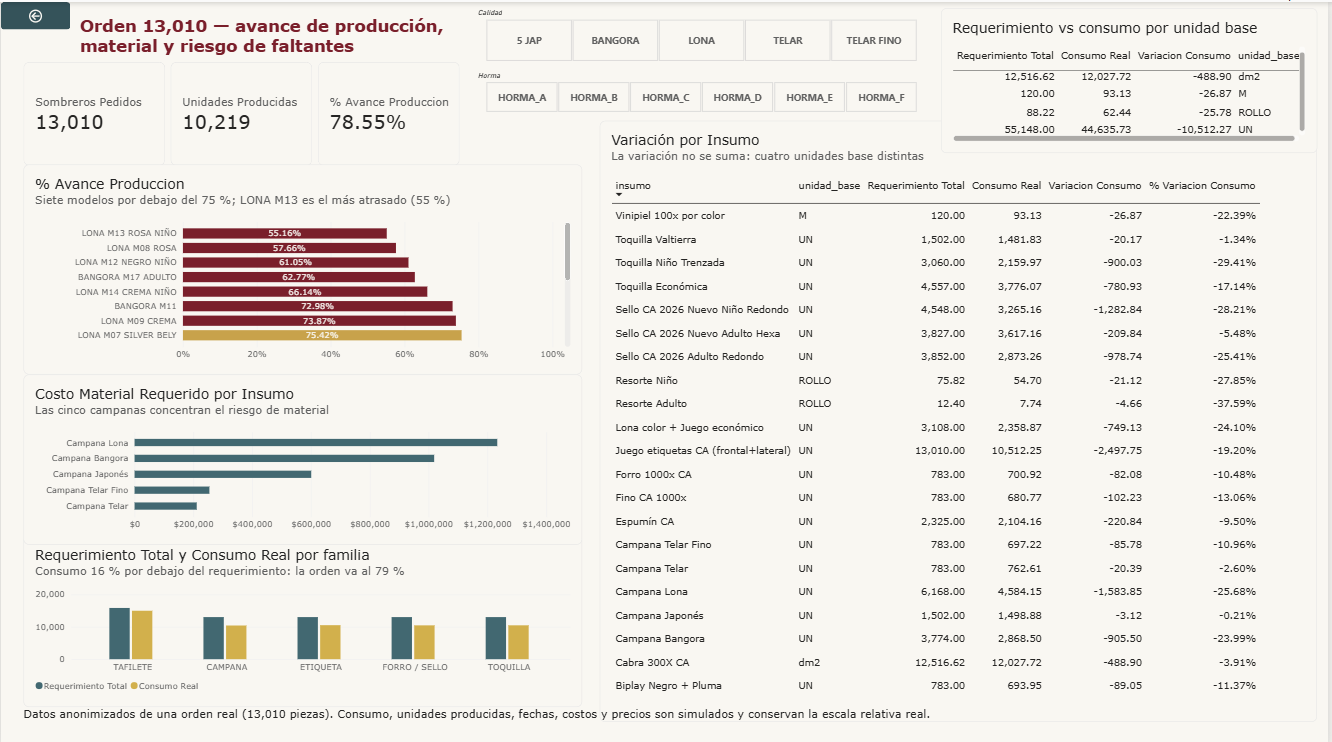

Layout of this report page (visuals, bound fields, positions):
{"tool":"powerbi","page":{"name":"Página 1","canvas":[1920,1080],"ordinal":0},"visuals":[{"type":"actionButton","box":[0,0,100,40],"z":0},{"type":"cardVisual","fields":{"Data":["_Medidas.Sombreros Pedidos","_Medidas.Unidades Producidas","_Medidas.% Avance Produccion"]},"box":[32,86,632,150],"z":1000},{"type":"clusteredBarChart","title":"% Avance Produccion","fields":{"Category":["d_modelo.modelo"],"Y":["_Medidas.% Avance Produccion"]},"box":[32.6,235.3,808.9,304],"z":2000},{"type":"slicer","fields":{"Values":["d_modelo.linea_calidad"]},"box":[682.2,9,662,78],"z":3000},{"type":"slicer","fields":{"Values":["d_modelo.horma"]},"box":[682.2,99.5,662.3,61.5],"z":4000},{"type":"clusteredColumnChart","fields":{"Category":["d_insumo.familia"],"Y":["_Medidas.Requerimiento Total","_Medidas.Consumo Real"]},"box":[32.6,772.7,808.9,247.9],"z":5000},{"type":"tableEx","title":"Variación por Insumo","fields":{"Values":["d_insumo.insumo","d_insumo.unidad_base","_Medidas.Requerimiento Total","_Medidas.Consumo Real","_Medidas.Variacion Consumo","_Medidas.% Variacion Consumo"]},"box":[866.8,171.9,1038.7,870.4],"z":6000},{"type":"tableEx","title":" Requerimiento vs consumo por unidad base","fields":{"Values":["_Medidas.Requerimiento Total","_Medidas.Consumo Real","_Medidas.Variacion Consumo","d_insumo.unidad_base"]},"box":[1360.9,9,544.7,209.9],"z":7000},{"type":"clusteredBarChart","title":"Costo Material Requerido por Insumo","fields":{"Category":["d_insumo.insumo"],"Y":["_Medidas.Costo Material Requerido"]},"box":[32.6,539.3,808.9,246.1],"z":8000},{"type":"textbox","box":[100,100,300,300],"z":9000},{"type":"textbox","box":[100,100,300,300],"z":10000},{"type":"textbox","box":[32,1020,1328,46],"z":11000},{"type":"textbox","box":[114,20,568,66],"z":12000}]}

Visuals, with their boxes in screenshot pixels (x1, y1, x2, y2), scaled from the page's 1920x1080 canvas onto the 1332x742 screenshot:
actionButton: x1=0, y1=0, x2=69, y2=27
cardVisual - _Medidas.Sombreros Pedidos x _Medidas.Unidades Producidas: x1=22, y1=59, x2=461, y2=162
"% Avance Produccion" clusteredBarChart: x1=23, y1=162, x2=584, y2=371
slicer - d_modelo.linea_calidad: x1=473, y1=6, x2=933, y2=60
slicer - d_modelo.horma: x1=473, y1=68, x2=933, y2=111
clusteredColumnChart - d_insumo.familia x _Medidas.Requerimiento Total: x1=23, y1=531, x2=584, y2=701
"Variación por Insumo" tableEx: x1=601, y1=118, x2=1322, y2=716
" Requerimiento vs consumo por unidad base" tableEx: x1=944, y1=6, x2=1322, y2=150
"Costo Material Requerido por Insumo" clusteredBarChart: x1=23, y1=371, x2=584, y2=540
textbox: x1=69, y1=69, x2=278, y2=275
textbox: x1=69, y1=69, x2=278, y2=275
textbox: x1=22, y1=701, x2=944, y2=732
textbox: x1=79, y1=14, x2=473, y2=59
